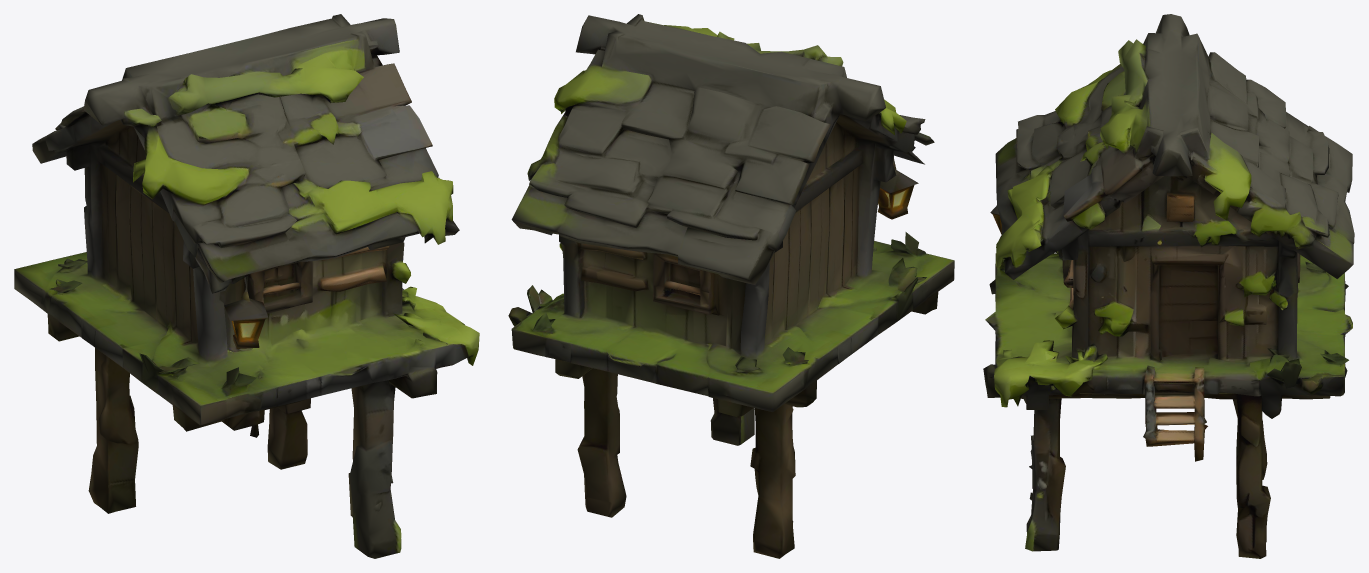
Rendered from biome-pantano.glb.
3 renders of one model, left to right at view 1: azimuth 30°, elevation 25°; view 2: azimuth 150°, elevation 25°; view 3: azimuth 270°, elevation 25°, orthographic. The views are drawn at different scales.
Parts seen in each view (by area): view 1: tripo_node_dd9ba847-0e0a-40f9-aed9-d4b210c9a1d9; view 2: tripo_node_dd9ba847-0e0a-40f9-aed9-d4b210c9a1d9; view 3: tripo_node_dd9ba847-0e0a-40f9-aed9-d4b210c9a1d9.
Boxes of the visible parts, <box> form: tripo_node_dd9ba847-0e0a-40f9-aed9-d4b210c9a1d9: <box>14,14,479,558</box>; tripo_node_dd9ba847-0e0a-40f9-aed9-d4b210c9a1d9: <box>508,14,954,558</box>; tripo_node_dd9ba847-0e0a-40f9-aed9-d4b210c9a1d9: <box>983,14,1354,558</box>.
Size of the model in its own units: 0.7229 by 1 by 0.76.
1 material, 1 textured.
